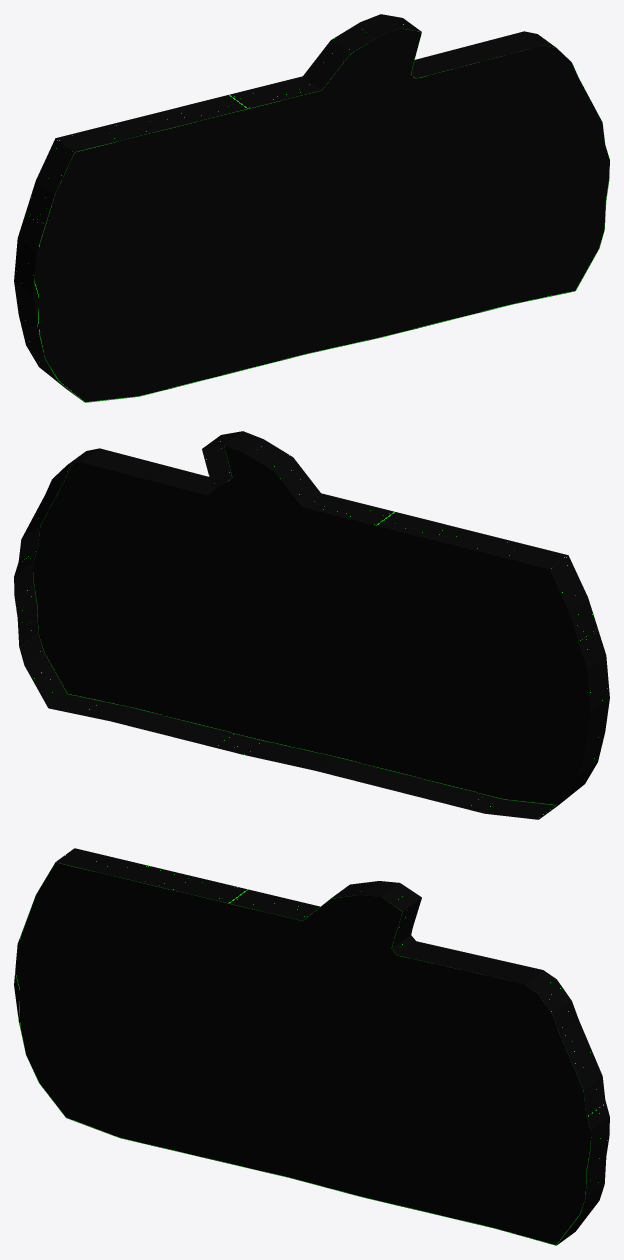
Rendered from Shadow_Maruta_01.FBX.
The picture shows the model from 3 angles, top to bottom: view 1: azimuth 30°, elevation 25°; view 2: azimuth 150°, elevation 25°; view 3: azimuth 330°, elevation 25°; orthographic projection.
Parts seen in each view (by area): view 1: Line001; view 2: Line001; view 3: Line001.
Boxes of the visible parts, bbox=[...] form: Line001: bbox=[14, 14, 609, 402]; Line001: bbox=[14, 431, 609, 819]; Line001: bbox=[14, 848, 609, 1245].
Size of the model in its own units: 137 by 69.34 by 7.87.
Materials: 1 (1 with a texture image).
